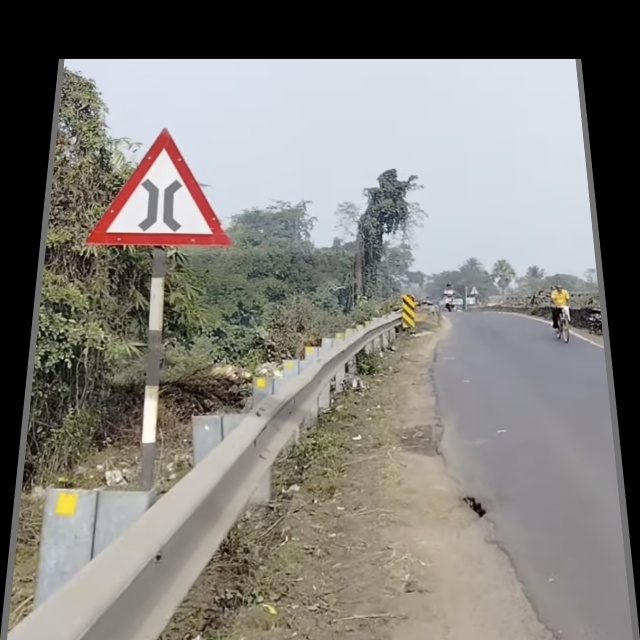Narrow_Bridge: (92, 131, 229, 242)
